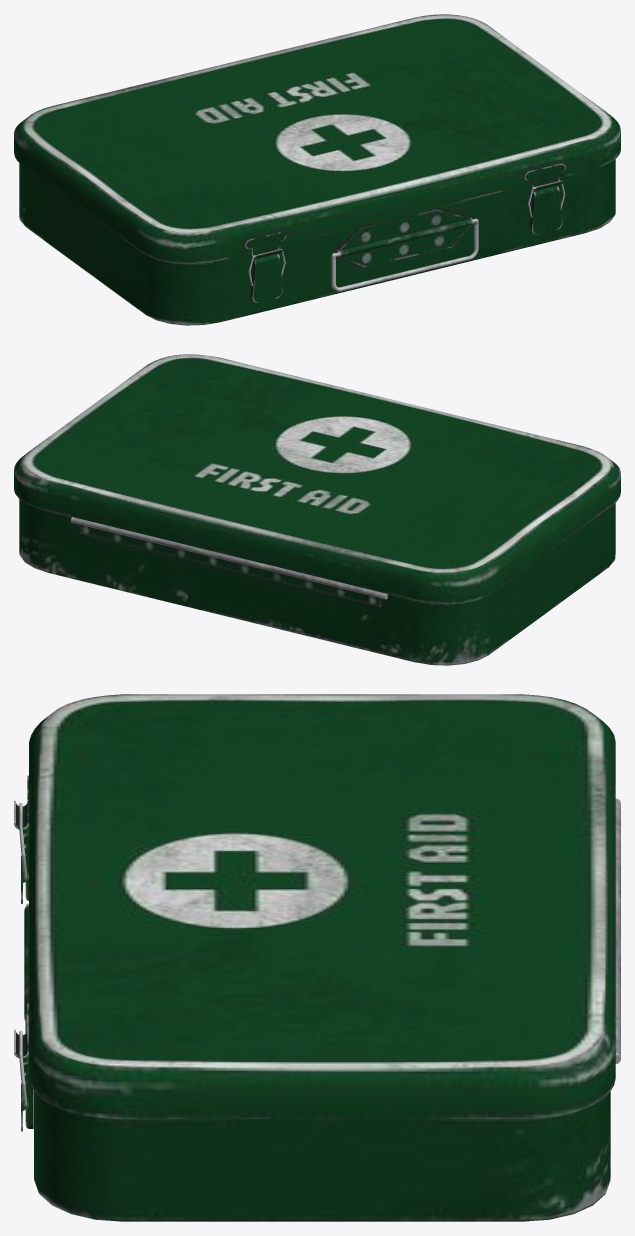
File: medical_box.glb
3 renders of one model, top to bottom at view 1: azimuth 30°, elevation 25°; view 2: azimuth 150°, elevation 25°; view 3: azimuth 270°, elevation 25°, orthographic. The views are drawn at different scales.
Parts seen in each view (by area): view 1: medical_box_lid, medical_box, medical_box_latch, medical_box_handle; view 2: medical_box_lid, medical_box; view 3: medical_box_lid, medical_box.
Boxes of the visible parts, x1,y1,x2,y2 form: medical_box_lid: [14, 14, 620, 263]; medical_box: [19, 159, 615, 325]; medical_box_latch: [251, 185, 562, 302]; medical_box_handle: [331, 218, 478, 291]; medical_box_lid: [14, 354, 620, 603]; medical_box: [19, 499, 615, 665]; medical_box_lid: [14, 694, 615, 1118]; medical_box: [24, 798, 620, 1221].
Bounding box in the file's own units: 0.5255 × 0.0975 × 0.3502.
Materials: 1 (1 with a texture image).
